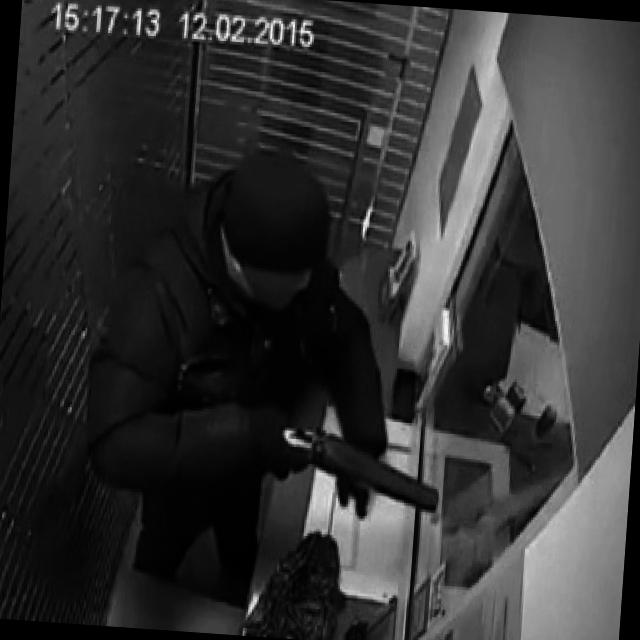gun: (272, 424, 444, 525)
person with a gun: (77, 138, 462, 600)
